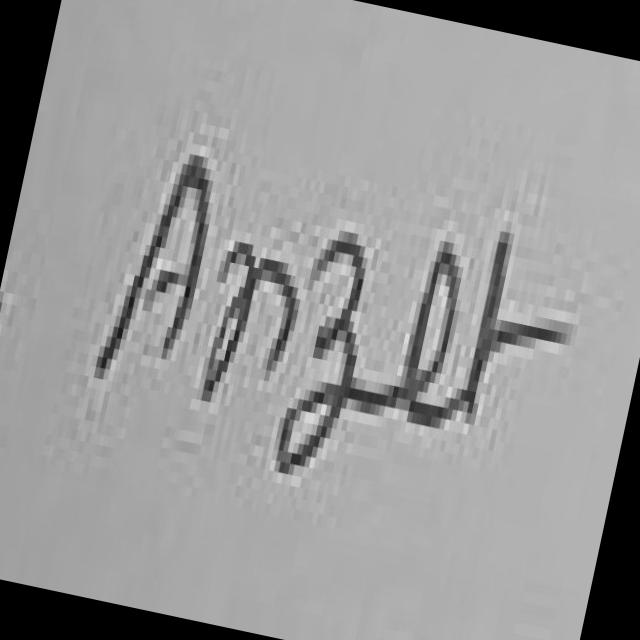A: (96, 155, 210, 379)
e: (402, 243, 462, 424)
n: (202, 242, 299, 397)
t: (465, 232, 570, 424)
z: (277, 233, 366, 472)
